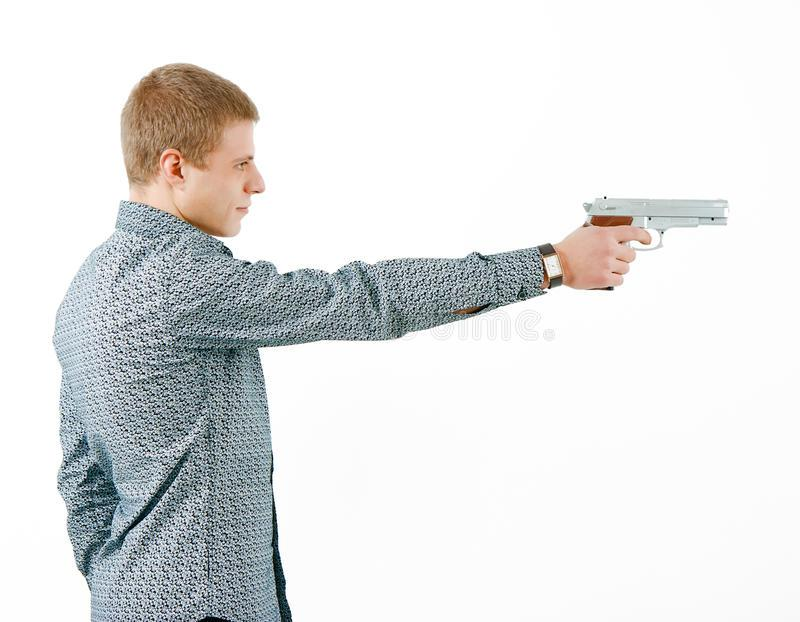criminal: (48, 56, 740, 622)
weapon: (572, 189, 740, 293)
